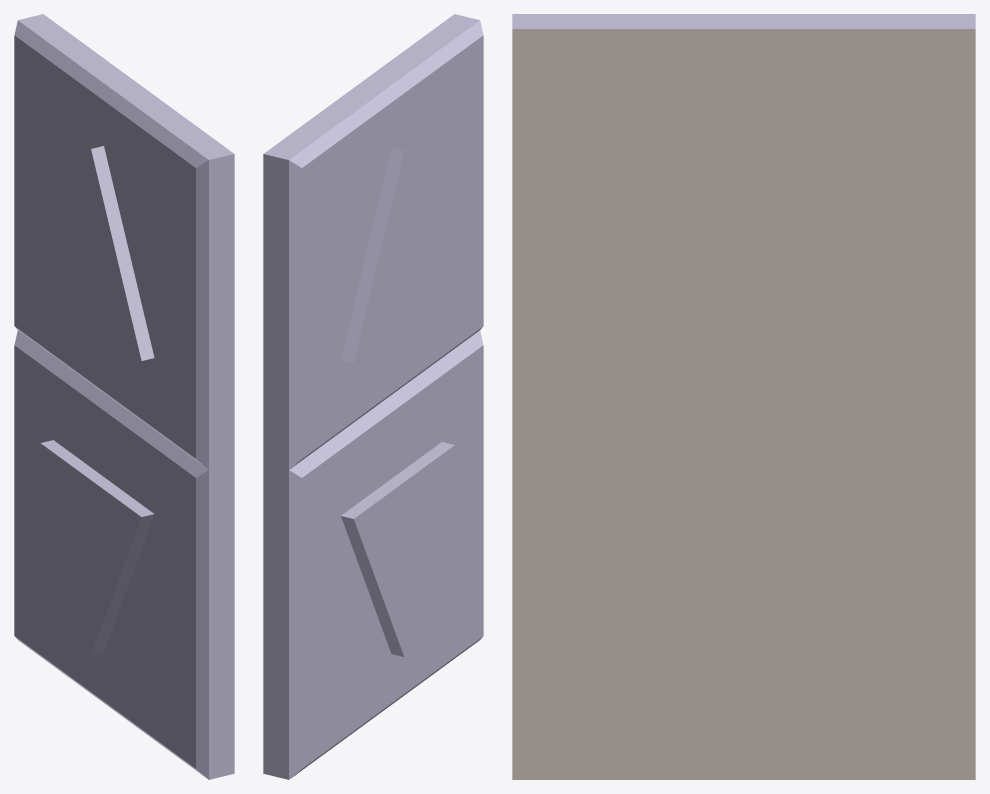
Rendered from ElevatorPad.fbx.
The picture shows the model from 3 angles, left to right: view 1: azimuth 30°, elevation 25°; view 2: azimuth 150°, elevation 25°; view 3: azimuth 270°, elevation 25°; orthographic projection. The views are drawn at different scales.
Parts seen in each view (by area): view 1: ElevatorPad, ElevatorDownBtn, ElevatorUpBtn; view 2: ElevatorPad, ElevatorUpBtn, ElevatorDownBtn; view 3: ElevatorPad.
Boxes of the visible parts, box(x1,y1,x2,y2) form: ElevatorPad: box(14, 14, 234, 779); ElevatorDownBtn: box(40, 440, 154, 655); ElevatorUpBtn: box(40, 146, 154, 360); ElevatorPad: box(263, 14, 483, 779); ElevatorUpBtn: box(341, 147, 454, 362); ElevatorDownBtn: box(341, 442, 454, 656); ElevatorPad: box(512, 14, 975, 779).
Size of the model in its own units: 4.38 by 55.68 by 31.13.
